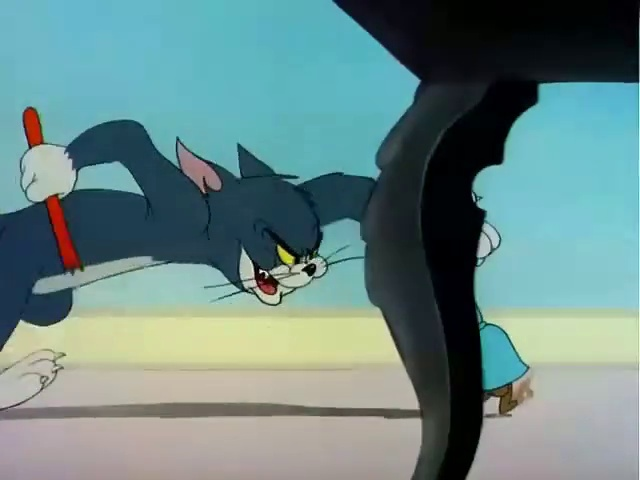tom: (3, 83, 361, 418)
